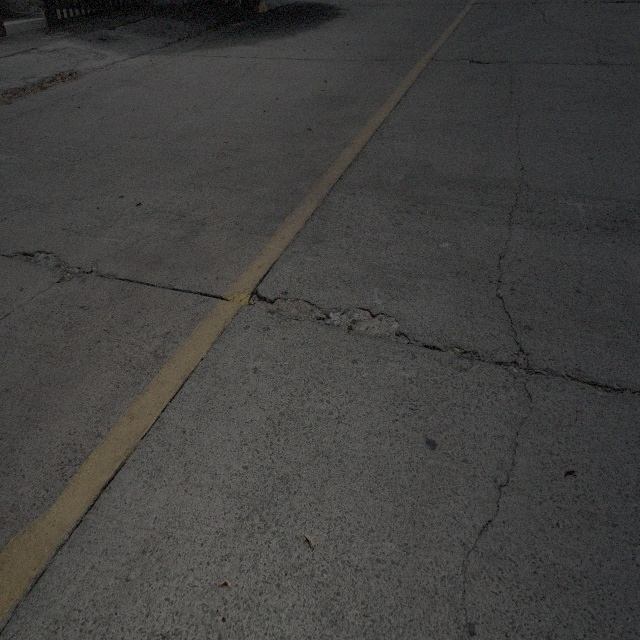pothole: (243, 283, 325, 325), (326, 302, 407, 332), (22, 246, 86, 283)
